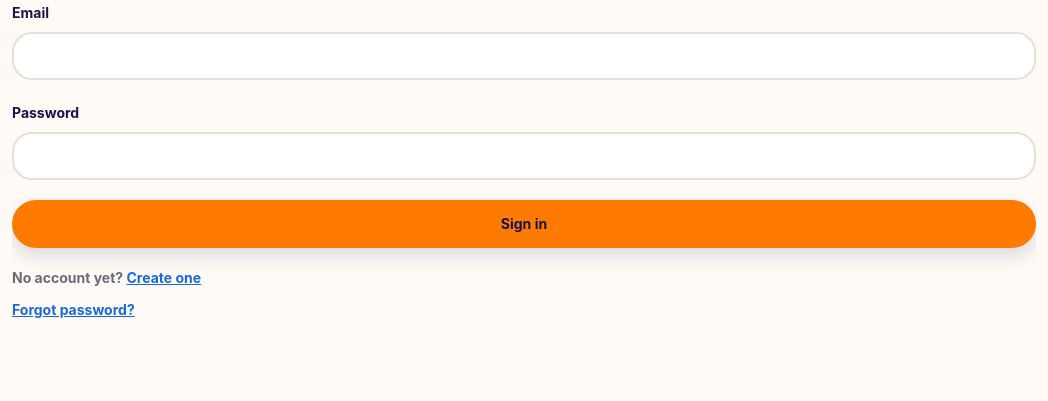
Test: AuthForm › shows a clear offline error for sign in
This screenshot has width=1048, height=401.
In the field labelled "Email": (524, 56) top-left (12, 32), bottom-right (1036, 80), type "player@example.com"
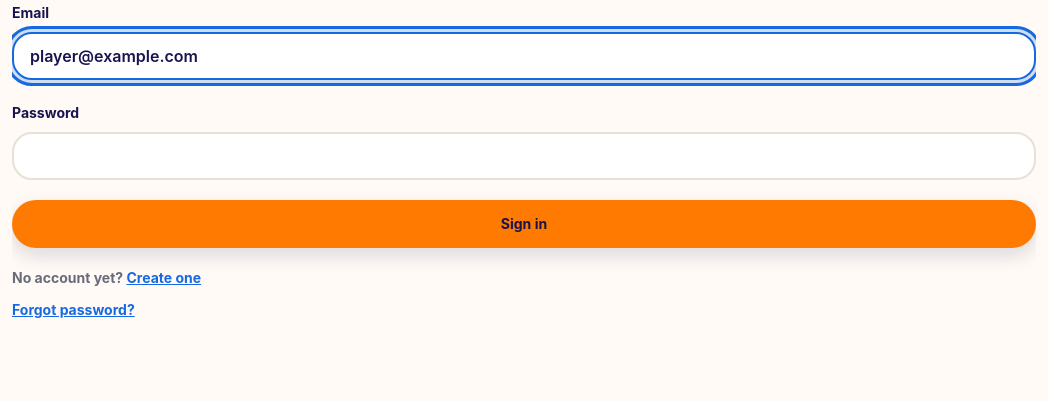
In the password field labelled "Password": (524, 156) top-left (12, 132), bottom-right (1036, 180), type "password123"
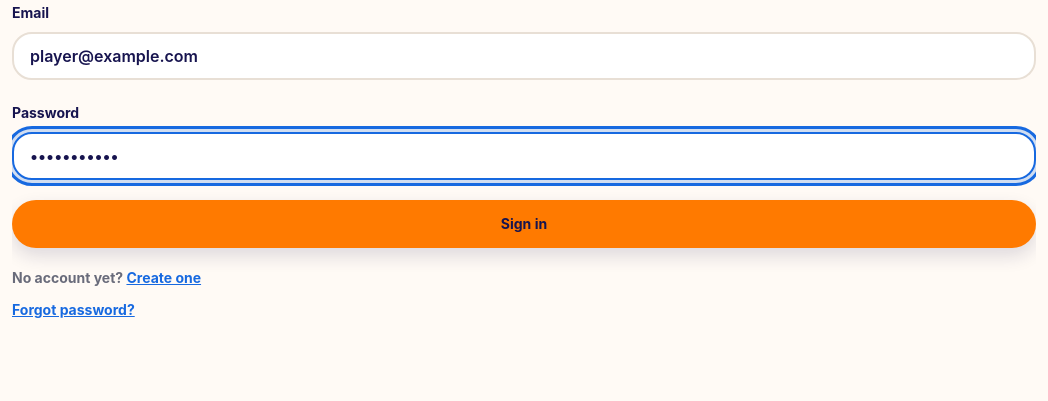
Click the button "Sign in": (524, 224) top-left (12, 200), bottom-right (1036, 248)
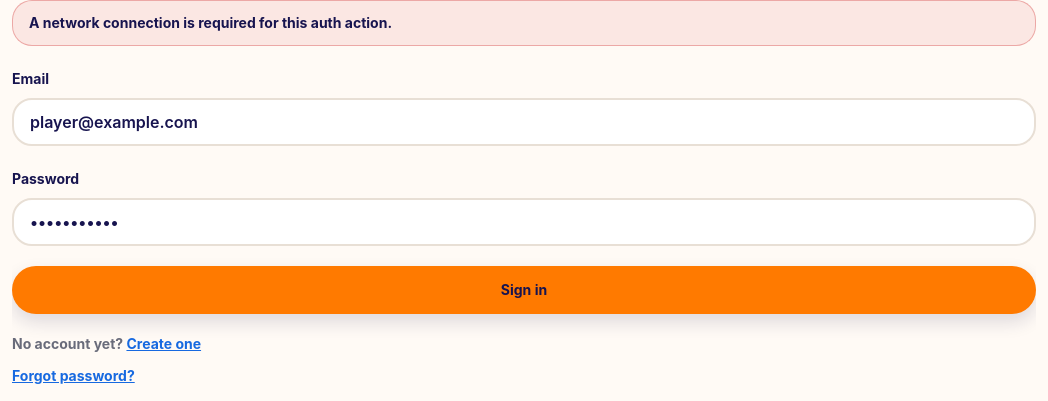
Result: the text "A network connection is required for this auth action." is shown at top-left (12, 0), bottom-right (1036, 46)
